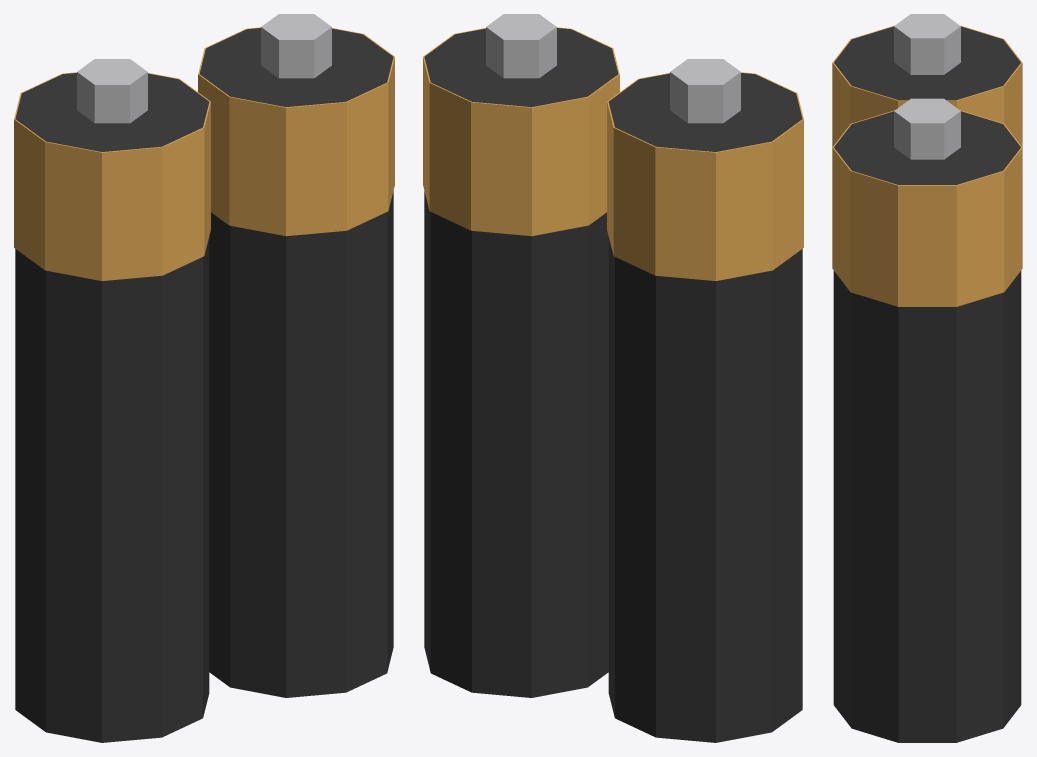
The model's file is pilas.glb.
3 renders of one model, left to right at view 1: azimuth 30°, elevation 25°; view 2: azimuth 150°, elevation 25°; view 3: azimuth 270°, elevation 25°, orthographic. The views are drawn at different scales.
Parts seen in each view (by area): view 1: pilas; view 2: pilas; view 3: pilas.
Boxes of the visible parts, x1,y1,x2,y2 form: pilas: (14, 14, 394, 742); pilas: (423, 14, 803, 742); pilas: (832, 14, 1022, 742).
Bounding box in the file's own units: 0.0285 × 0.049 × 0.0142.
